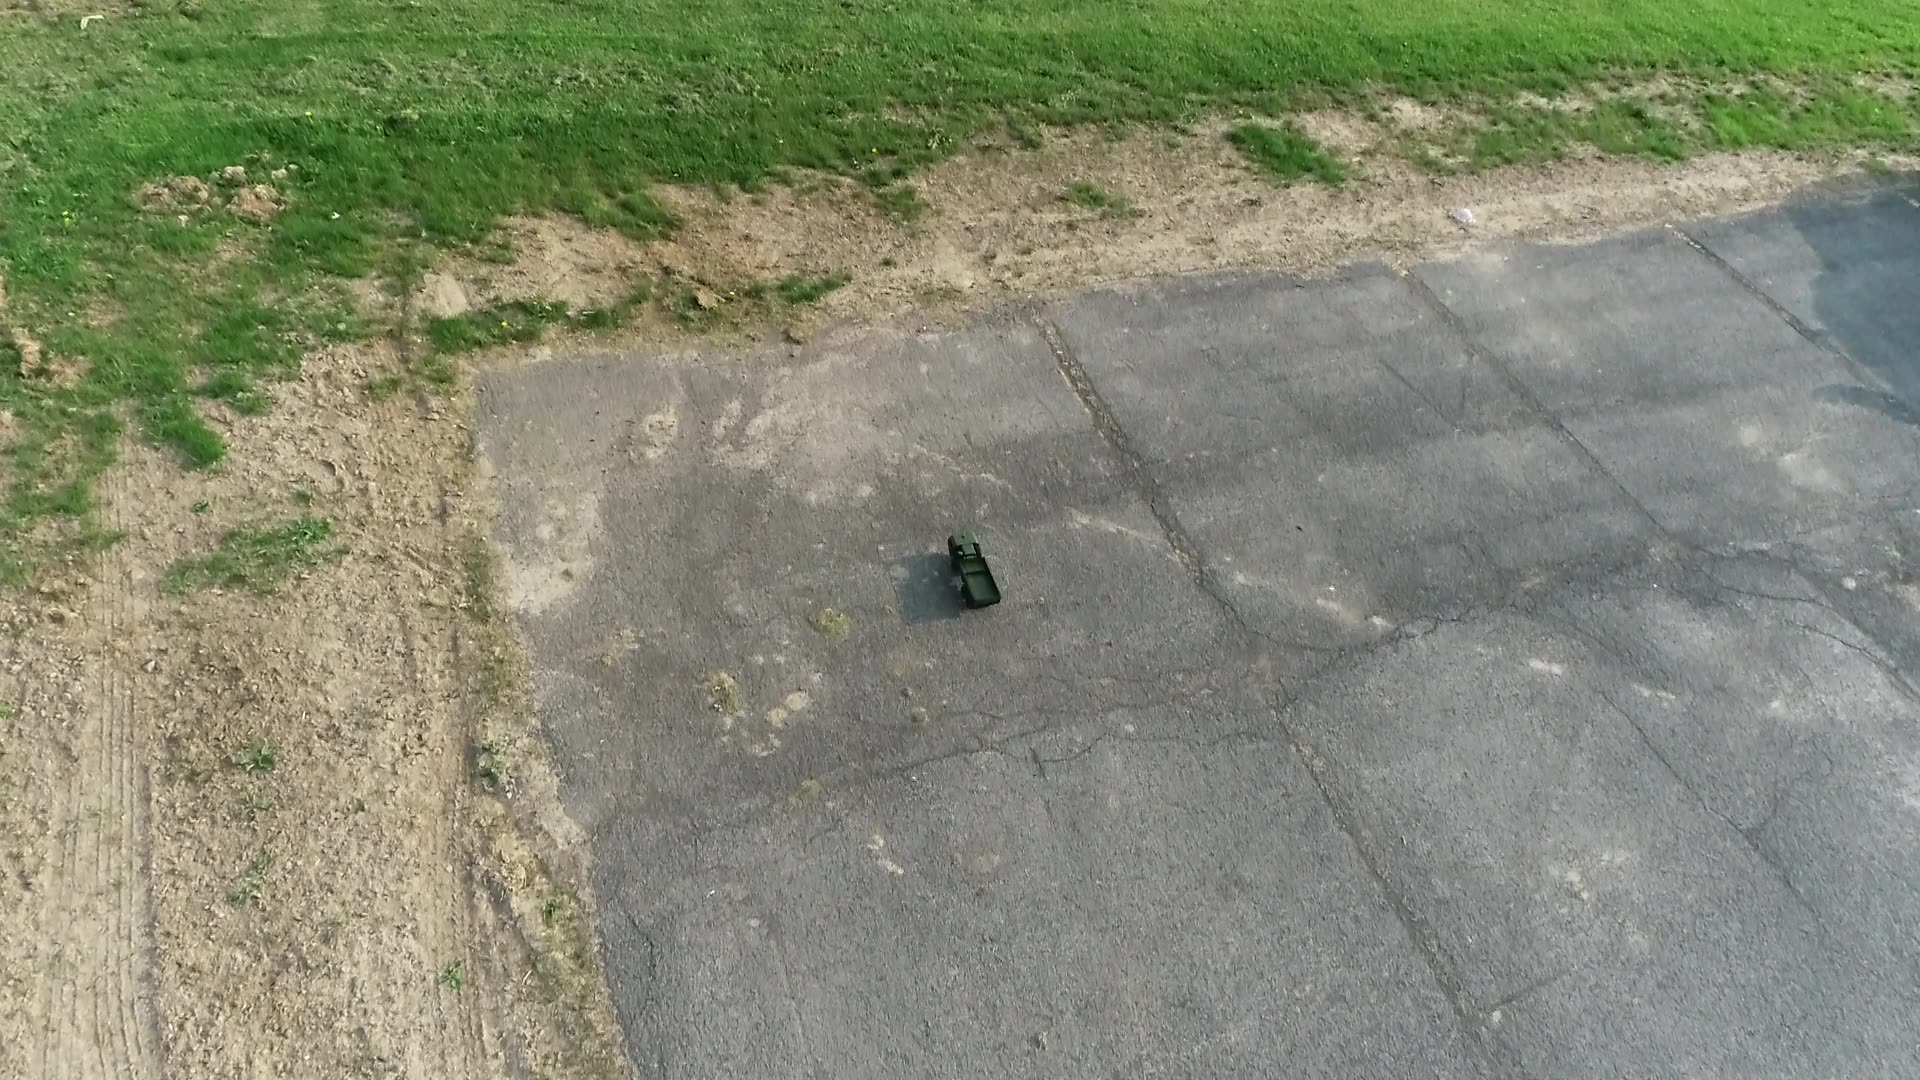transporter9: (945, 530, 1005, 611)
